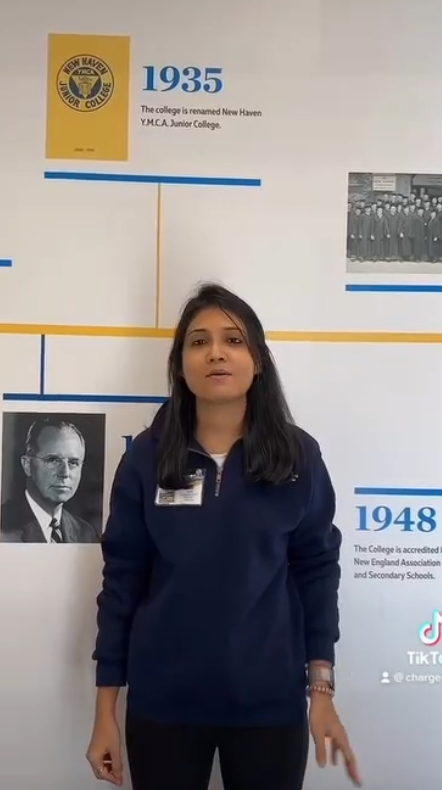Staff: (126, 281, 324, 550)
